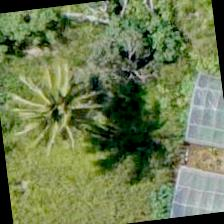Kelapa_Sawit: (10, 53, 110, 153)
